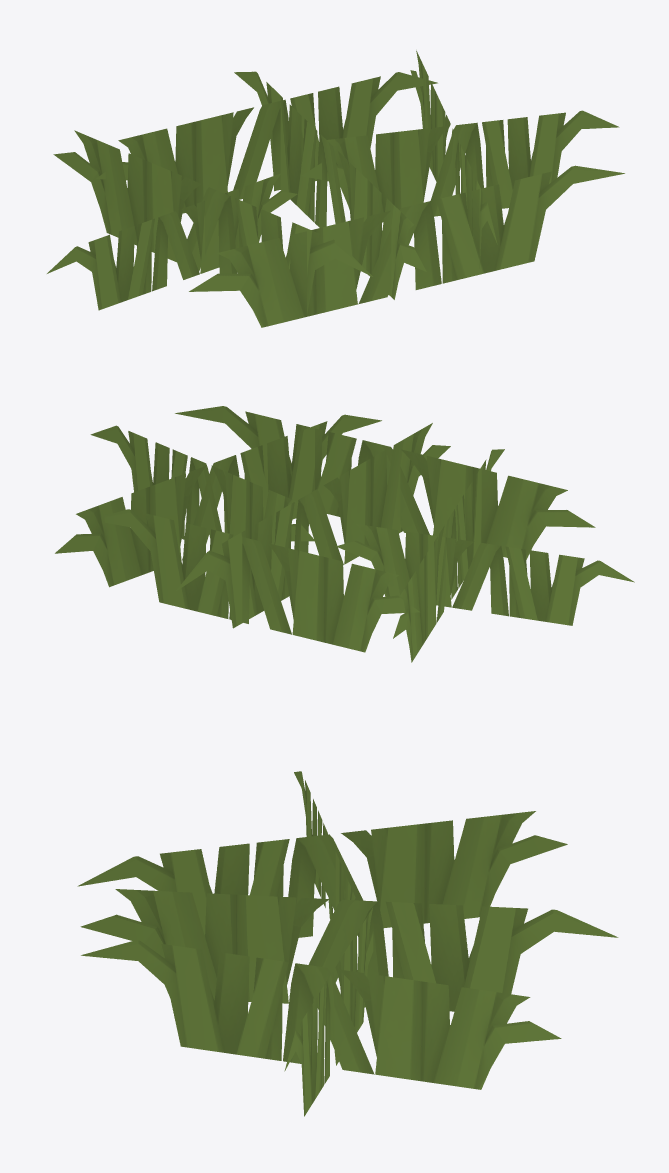
The model's file is SM_Env_Grass_Short_Clump_02.fbx.
3 views of the same model, one above another, from view 1: azimuth 30°, elevation 25°; view 2: azimuth 150°, elevation 25°; view 3: azimuth 270°, elevation 25° (orthographic). The views are drawn at different scales.
Visible parts, largest first — view 1: SM_Env_Grass_Short_Clump_02_LOD0; view 2: SM_Env_Grass_Short_Clump_02_LOD0; view 3: SM_Env_Grass_Short_Clump_02_LOD0.
Boxes of the visible parts, box(x1,y1,x2,y2) form: SM_Env_Grass_Short_Clump_02_LOD0: box(47, 50, 624, 327); SM_Env_Grass_Short_Clump_02_LOD0: box(55, 406, 634, 662); SM_Env_Grass_Short_Clump_02_LOD0: box(77, 771, 618, 1116).
Size of what is drawn, in the model's own units: 179 by 26.64 by 145.
